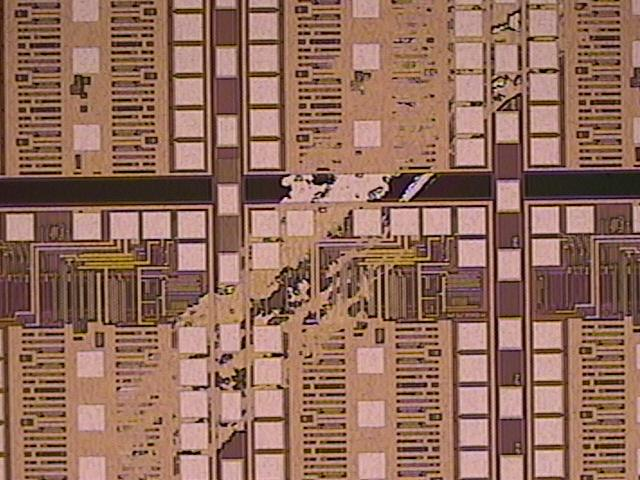SCRATCH: (44, 1, 624, 480)
